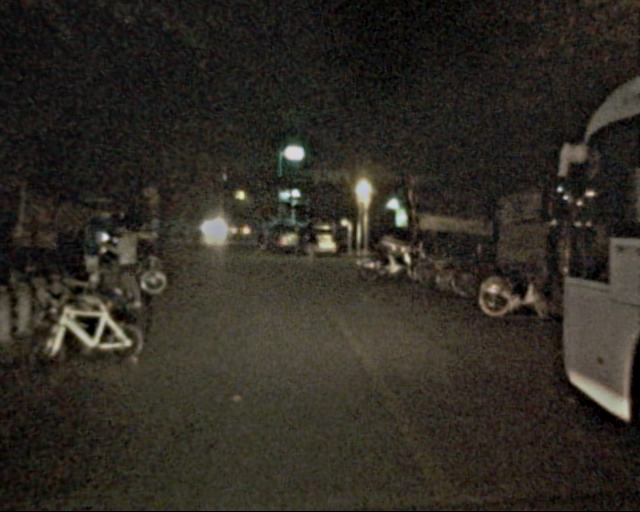person: (109, 219, 146, 309), (302, 223, 319, 265), (251, 224, 265, 259)
